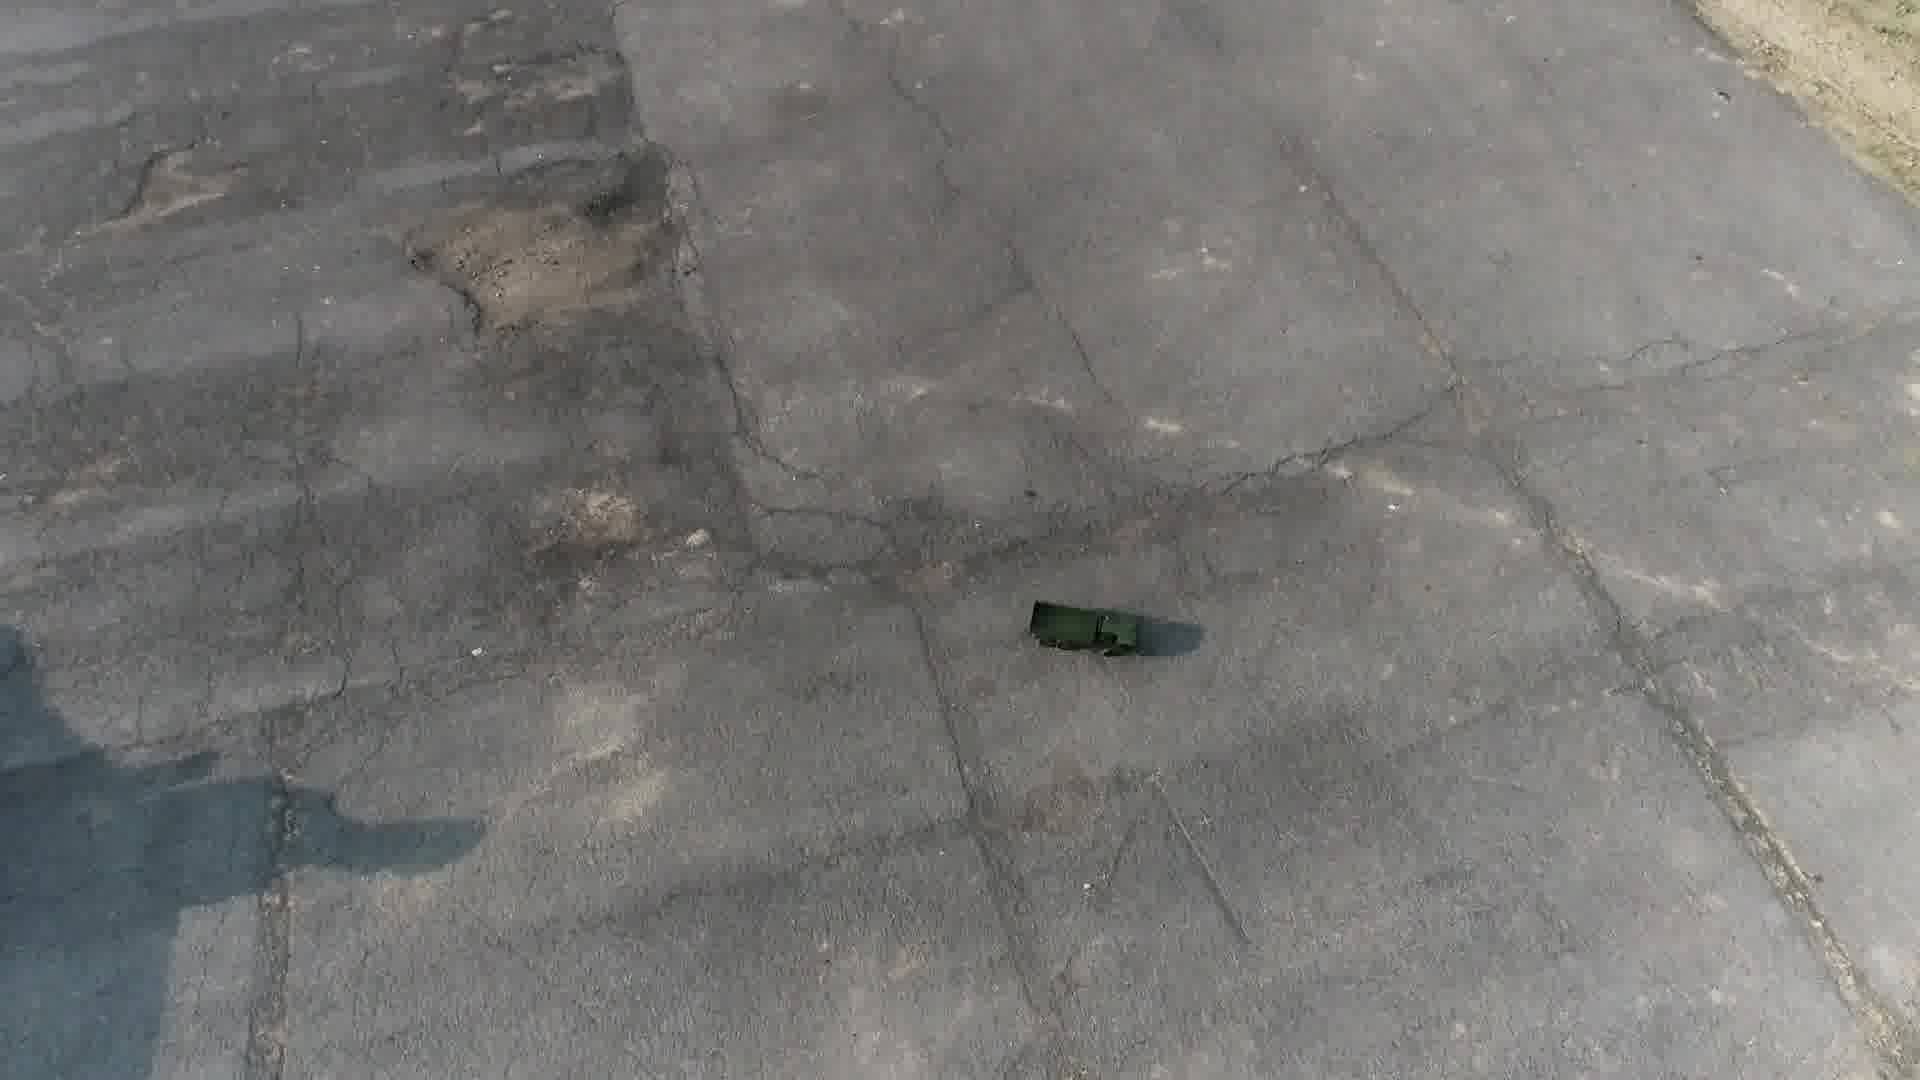transporter9: (1019, 597, 1145, 658)
